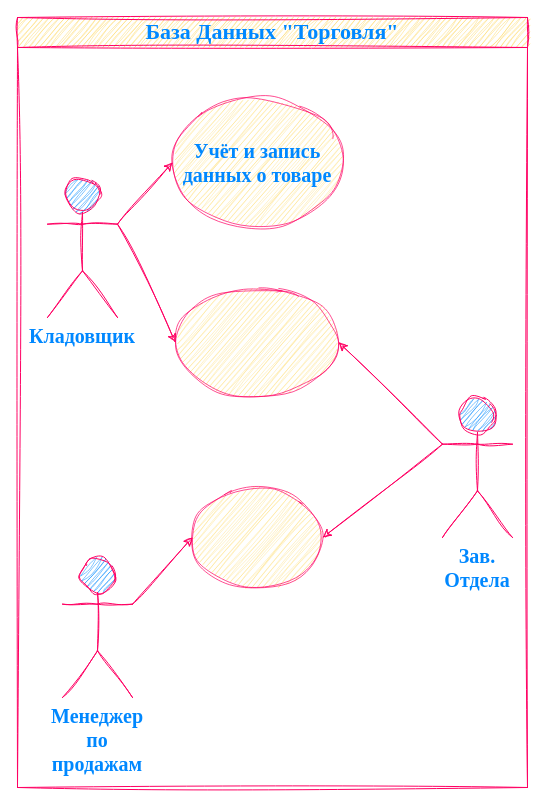
Some shapes in this 545 by 805 pixel diagram are drawn without their labels. Here are the shapes that lost their labels. From the top down, the centre of each, then its label:
At [257,342]: "Размещение товара в отдел".
At [257,537]: "Продажа товара".
